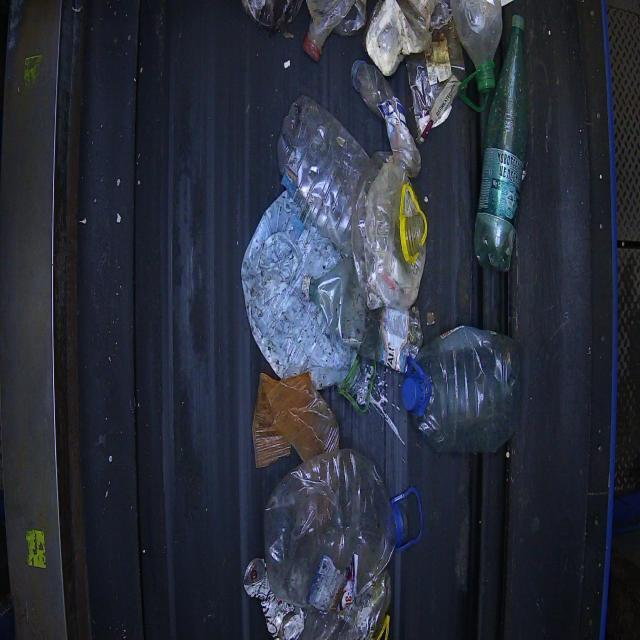bottles: (472, 13, 529, 271)
cups: (401, 324, 521, 454)
other-trash: (236, 0, 528, 638)
trashbin: (2, 0, 636, 639)
